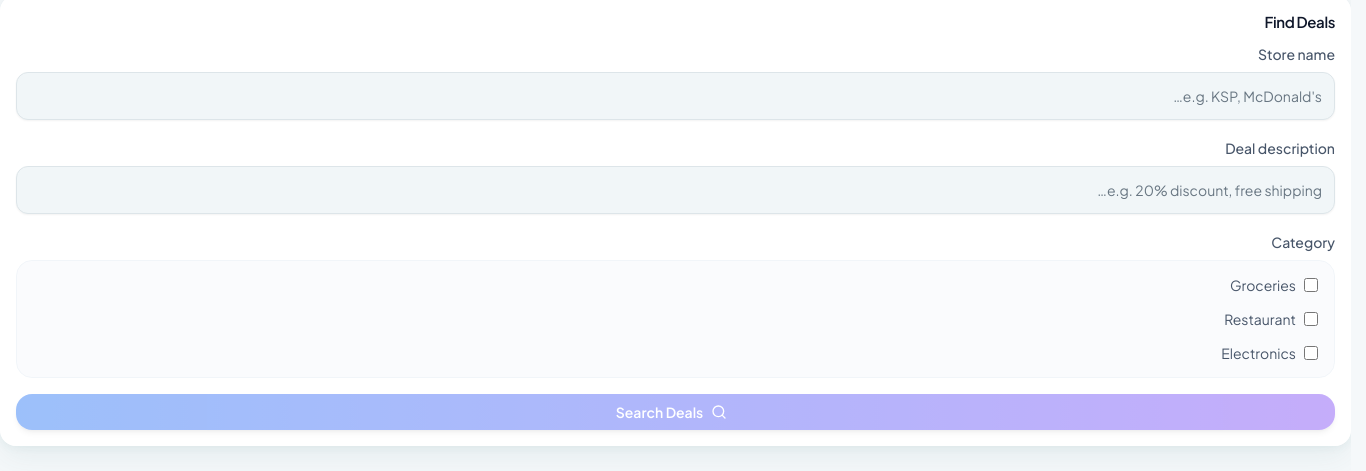
Test case: DealFilters › enables search button when store text is entered
The image size is (1366, 471).
Type "pizza" into the search field with placeholder "e.g. KSP, McDonald's…".
click(676, 96); type("pizza")  # box [16,72,1335,120]
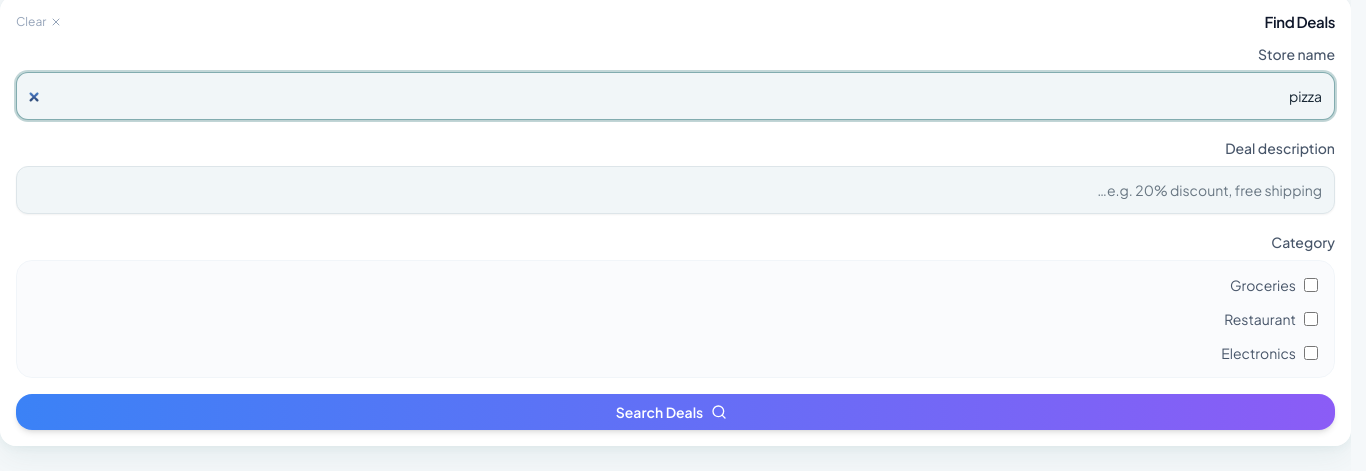
expect the button "Search Deals" is enabled: met, box [16,394,1335,430]
